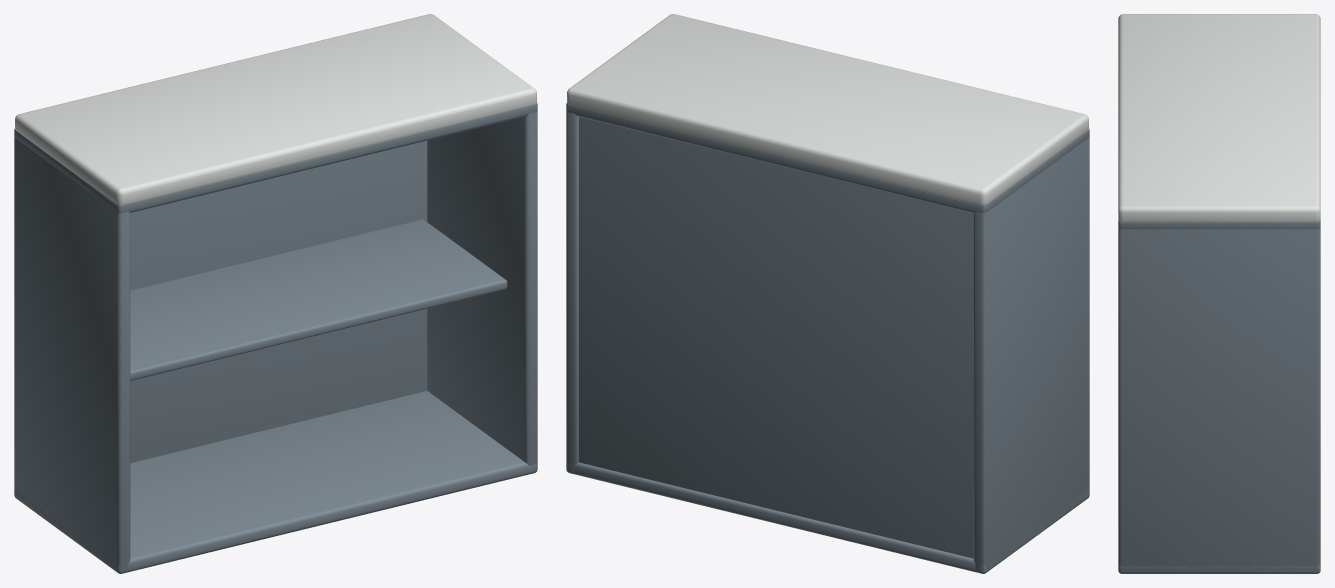
File: open-metal-upper.glb
3 views of the same model, side by side, from view 1: azimuth 30°, elevation 25°; view 2: azimuth 150°, elevation 25°; view 3: azimuth 270°, elevation 25° (orthographic). The views are drawn at different scales.
Visible parts, largest first — view 1: catalog_surface_RealismUV, catalog_surface_UVMap; view 2: catalog_surface_RealismUV, catalog_surface_UVMap; view 3: catalog_surface_RealismUV, catalog_surface_UVMap.
Part boxes in pixels (x1,y1,x2,y2): catalog_surface_RealismUV: [14, 102, 537, 573]; catalog_surface_UVMap: [15, 14, 536, 204]; catalog_surface_RealismUV: [566, 102, 1089, 573]; catalog_surface_UVMap: [567, 14, 1088, 204]; catalog_surface_RealismUV: [1118, 220, 1320, 573]; catalog_surface_UVMap: [1118, 14, 1320, 221].
Bounding box in the file's own units: 0.8 × 0.7 × 0.35.
